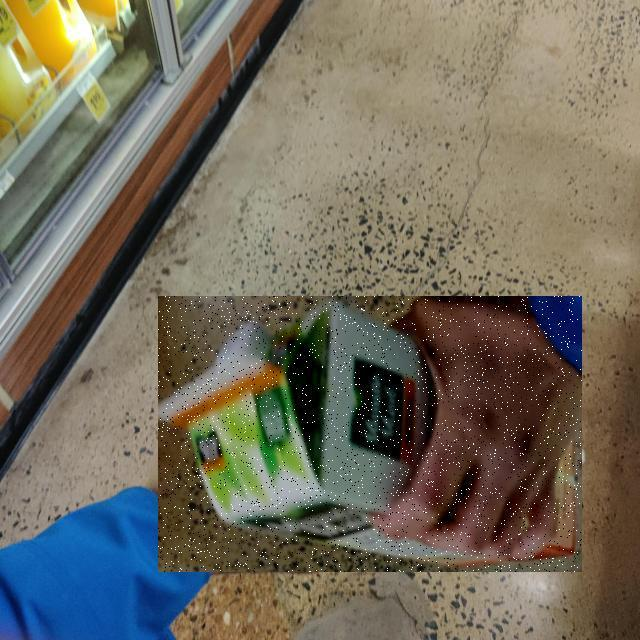Juice: (159, 296, 583, 572)
